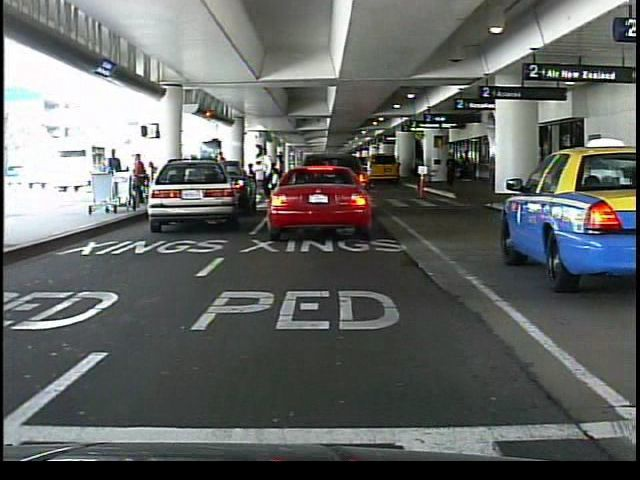person: (251, 159, 274, 205), (331, 152, 348, 205), (106, 148, 122, 204), (214, 149, 231, 201), (260, 147, 276, 201), (444, 152, 458, 188)
